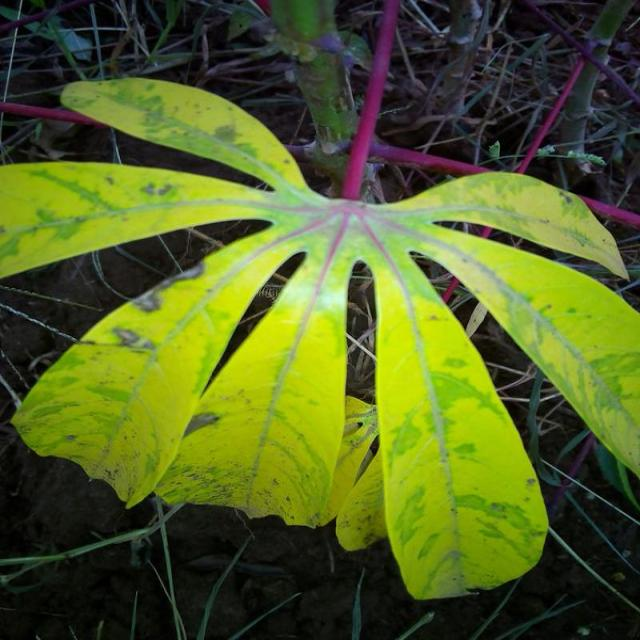cassava leaf: (2, 68, 639, 600), (370, 241, 550, 601)
